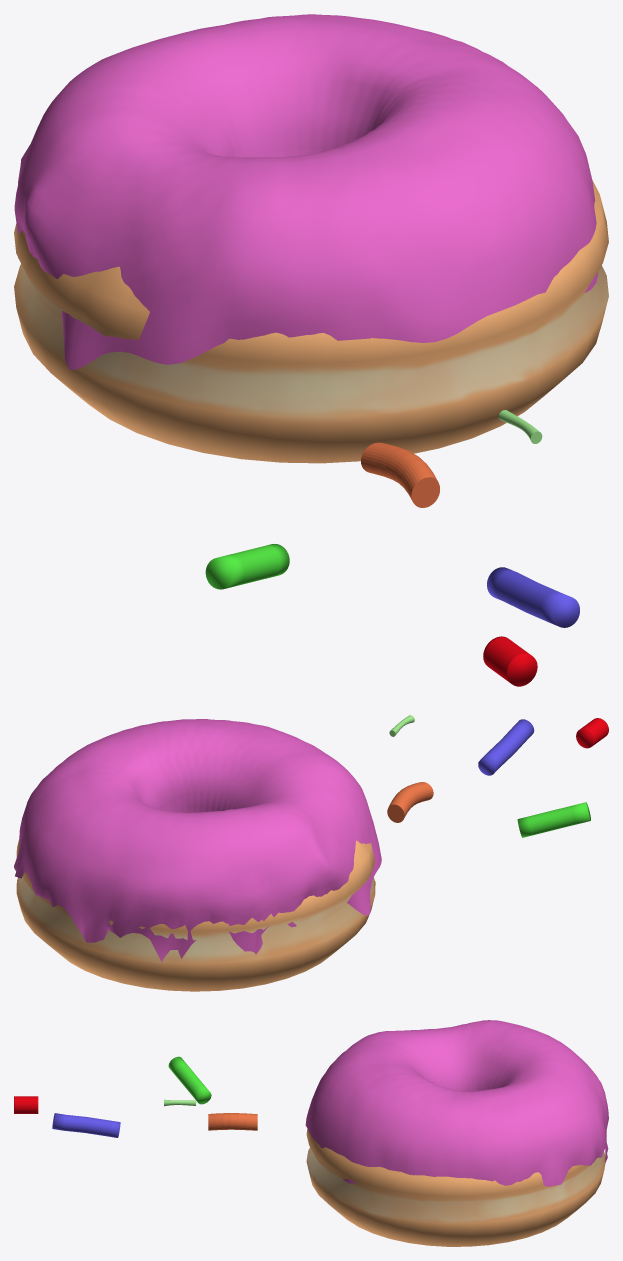
The model's file is donut.gltf.
The picture shows the model from 3 angles, top to bottom: view 1: azimuth 30°, elevation 25°; view 2: azimuth 150°, elevation 25°; view 3: azimuth 270°, elevation 25°; orthographic projection. The views are drawn at different scales.
Visible parts, largest first — view 1: Icing, Donut, Sprinkle_long, Sprinkle_curved, Sprinkle_medium, Spirnkle_short; view 2: Icing, Donut, Sprinkle_medium, Sprinkle_long, Sprinkle_curved, Spirnkle_short; view 3: Icing, Donut, Sprinkle_long, Sprinkle_medium, Sprinkle_curved, Spirnkle_short.
Part boxes in pixels (x1=…): Icing: x1=14, y1=14, x2=598, y2=369; Donut: x1=14, y1=180, x2=608, y2=463; Sprinkle_long: x1=487, y1=567, x2=579, y2=627; Sprinkle_curved: x1=361, y1=442, x2=439, y2=507; Sprinkle_medium: x1=205, y1=544, x2=289, y2=589; Spirnkle_short: x1=483, y1=636, x2=537, y2=686; Icing: x1=14, y1=719, x2=381, y2=961; Donut: x1=16, y1=839, x2=375, y2=991; Sprinkle_medium: x1=517, y1=802, x2=590, y2=837; Sprinkle_long: x1=478, y1=719, x2=534, y2=775; Sprinkle_curved: x1=387, y1=782, x2=433, y2=822; Spirnkle_short: x1=576, y1=718, x2=608, y2=748; Icing: x1=305, y1=1020, x2=608, y2=1186; Donut: x1=306, y1=1128, x2=605, y2=1246; Sprinkle_long: x1=52, y1=1113, x2=120, y2=1137; Sprinkle_medium: x1=168, y1=1056, x2=211, y2=1104; Sprinkle_curved: x1=208, y1=1113, x2=257, y2=1130; Spirnkle_short: x1=14, y1=1096, x2=38, y2=1113.
Size of what is drawn, in the model's own units: 3.04 by 1.31 by 4.9.
Materials: 7 (1 with a texture image).
